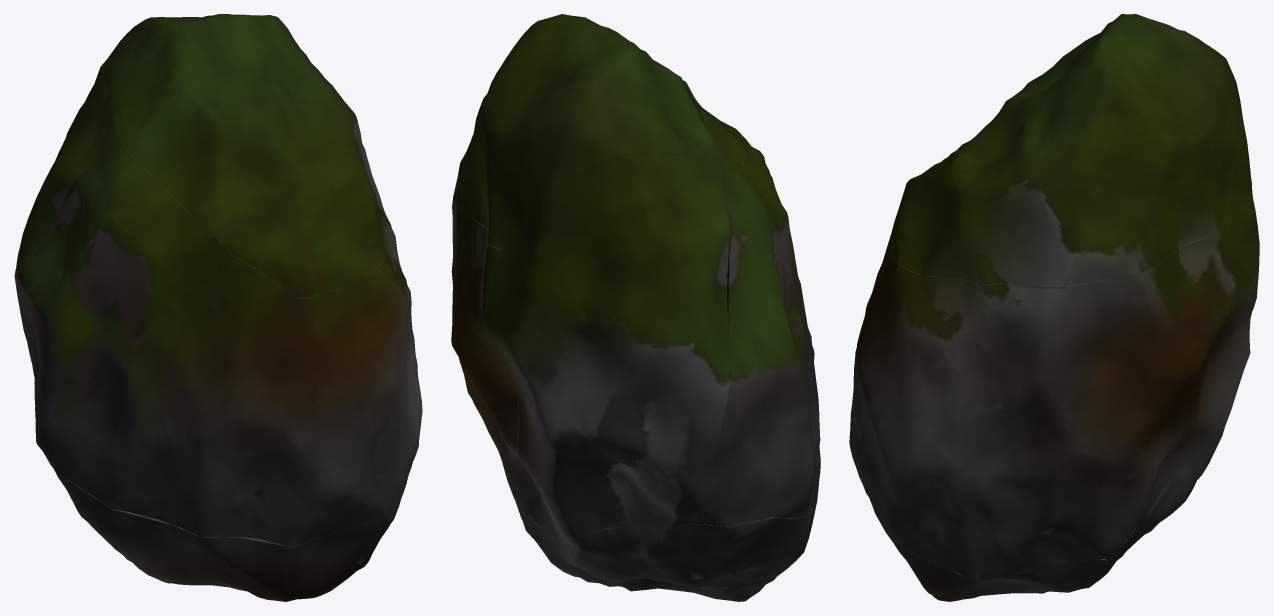
File: island_piece_3.fbx
3 renders of one model, left to right at view 1: azimuth 30°, elevation 25°; view 2: azimuth 150°, elevation 25°; view 3: azimuth 270°, elevation 25°, orthographic. The views are drawn at different scales.
Visible parts, largest first — view 1: rock_cell.007, rock_cell.002, rock_cell.008, rock_cell, rock_cell.004, rock_cell.011; view 2: rock_cell.011, rock_cell.002, rock_cell.008, rock_cell.004, rock_cell, rock_cell.007; view 3: rock_cell, rock_cell.002, rock_cell.011, rock_cell.004, rock_cell.007.
Part boxes in pixels (bbox=[...]): rock_cell.007: bbox=[36, 255, 385, 547]; rock_cell.002: bbox=[101, 14, 388, 298]; rock_cell.008: bbox=[16, 145, 231, 432]; rock_cell: bbox=[301, 189, 422, 524]; rock_cell.004: bbox=[50, 464, 389, 601]; rock_cell.011: bbox=[14, 66, 120, 309]; rock_cell.011: bbox=[484, 153, 730, 537]; rock_cell.002: bbox=[453, 14, 762, 249]; rock_cell.008: bbox=[692, 155, 813, 526]; rock_cell.004: bbox=[527, 506, 815, 601]; rock_cell: bbox=[451, 197, 547, 531]; rock_cell.007: bbox=[773, 283, 820, 518]; rock_cell: bbox=[853, 228, 1238, 581]; rock_cell.002: bbox=[890, 14, 1243, 287]; rock_cell.011: bbox=[1177, 124, 1259, 473]; rock_cell.004: bbox=[883, 467, 1206, 601]; rock_cell.007: bbox=[849, 262, 882, 513].
Bounding box in the file's own units: 297 × 464 × 309.
1 material, 1 textured.
